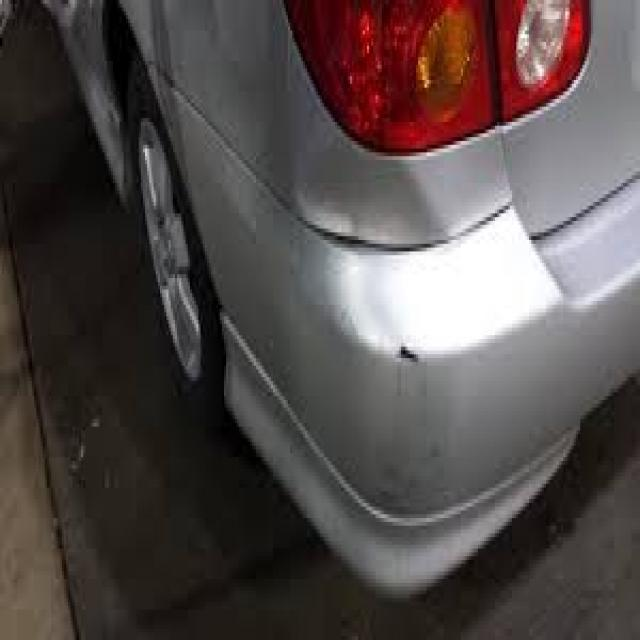minor: (387, 334, 432, 378)
